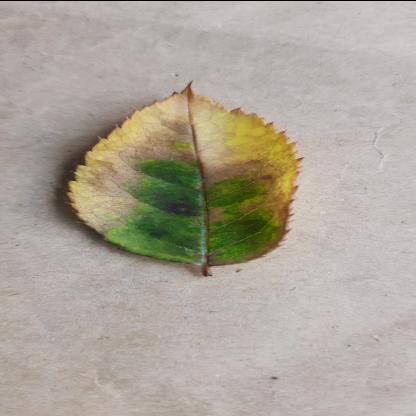black-spot: (65, 85, 304, 267)
